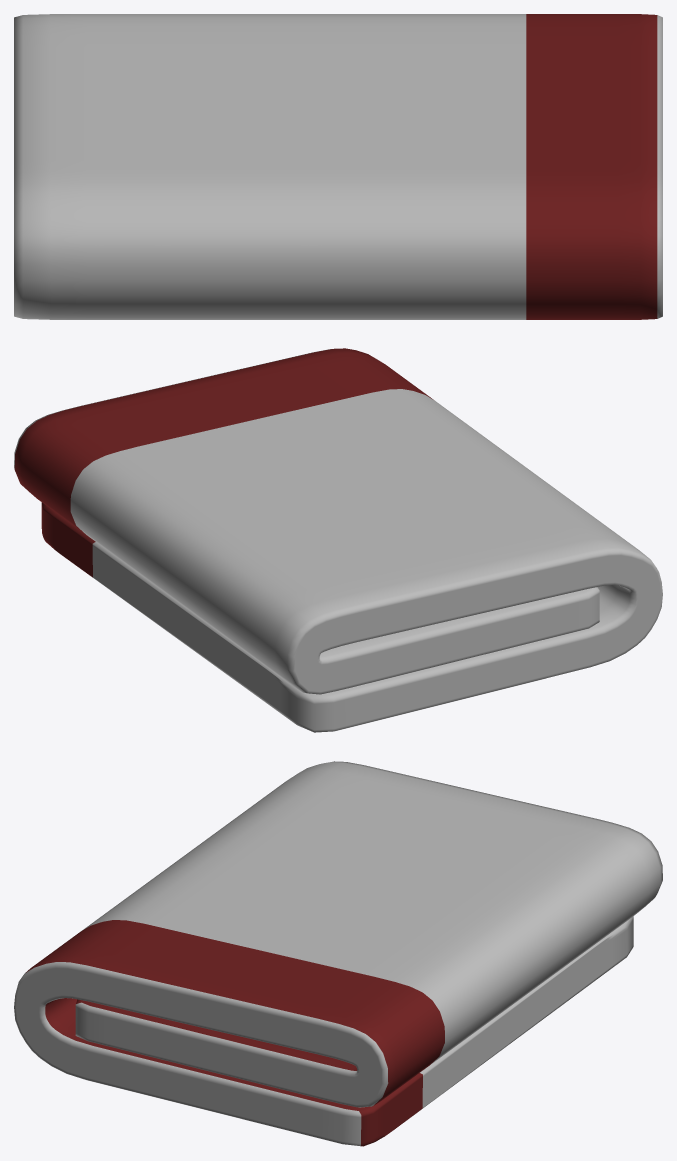
The model's file is towel.fbx.
The picture shows the model from 3 angles, top to bottom: view 1: azimuth 30°, elevation 25°; view 2: azimuth 150°, elevation 25°; view 3: azimuth 270°, elevation 25°; orthographic projection. The views are drawn at different scales.
Visible parts, largest first — view 1: polySurface3; view 2: polySurface3; view 3: polySurface3.
Part boxes in pixels (x1=…): polySurface3: x1=14, y1=14, x2=662, y2=319; polySurface3: x1=14, y1=348, x2=662, y2=732; polySurface3: x1=14, y1=761, x2=662, y2=1146.
Size of the model in its own units: 6.13 by 1.17 by 5.71.
